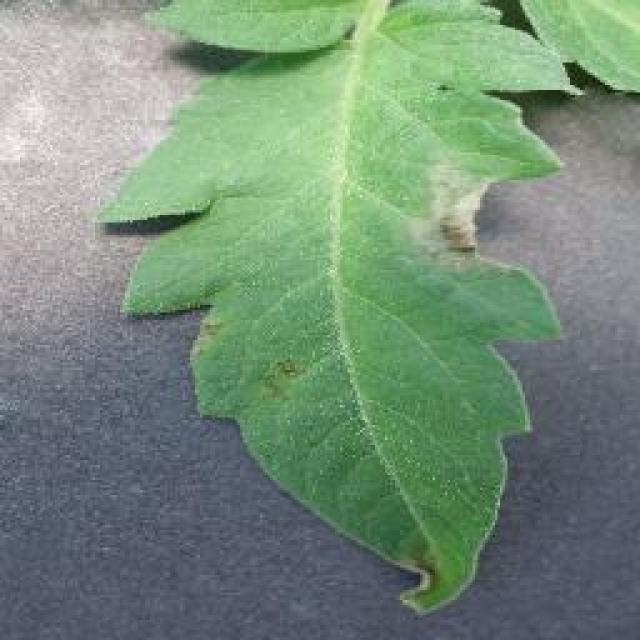Tomato___Late_blight: (95, 0, 599, 618)
